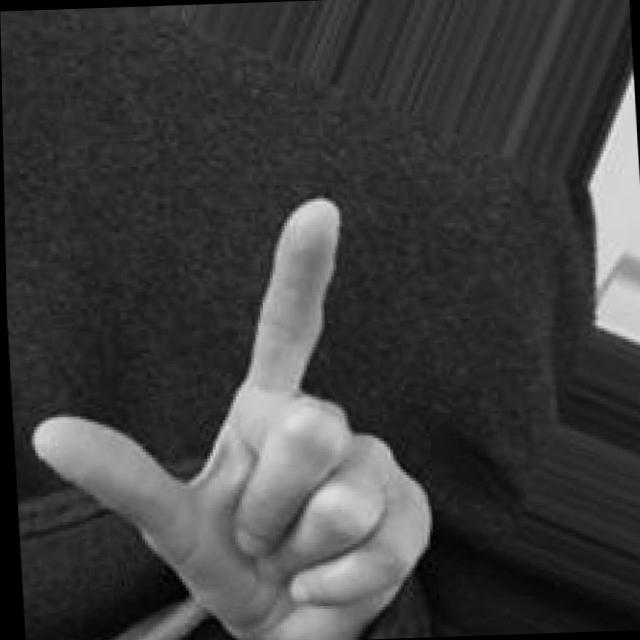L: (11, 182, 438, 640)
